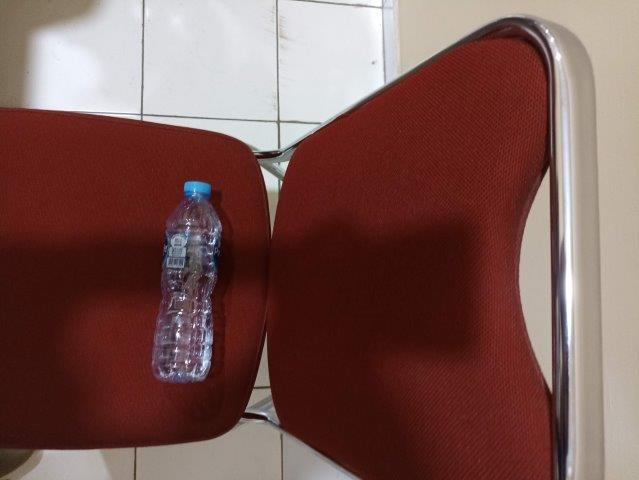botolplastik: (153, 181, 222, 383)
